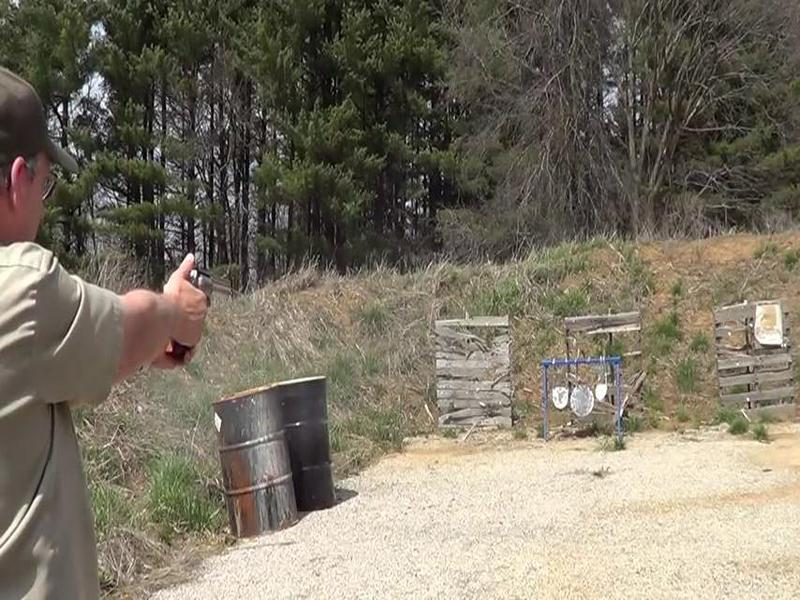Revolver: (162, 256, 257, 353)
